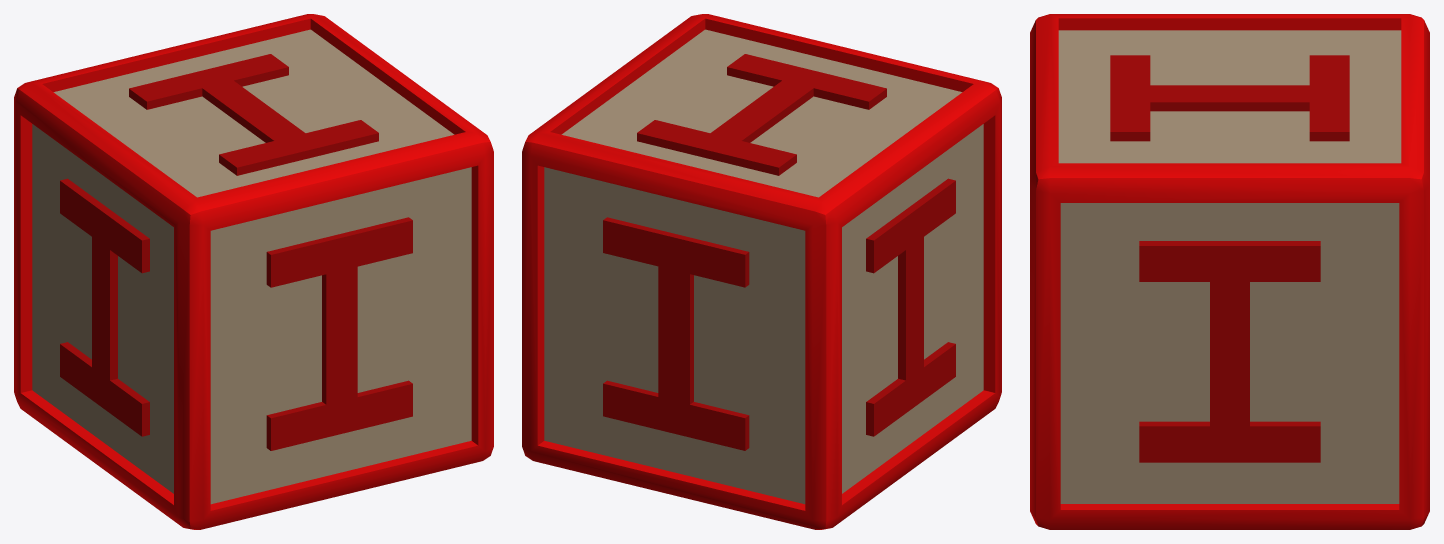
3 views of the same model, side by side, from view 1: azimuth 30°, elevation 25°; view 2: azimuth 150°, elevation 25°; view 3: azimuth 270°, elevation 25° (orthographic). The views are drawn at different scales.
Parts seen in each view (by area): view 1: polySurface7; view 2: polySurface7; view 3: polySurface7.
Boxes of the visible parts, x1,y1,x2,y2 form: polySurface7: (14, 14, 493, 529); polySurface7: (522, 14, 1001, 529); polySurface7: (1030, 14, 1429, 529).
Bounding box in the file's own units: 10 × 10 × 10.
